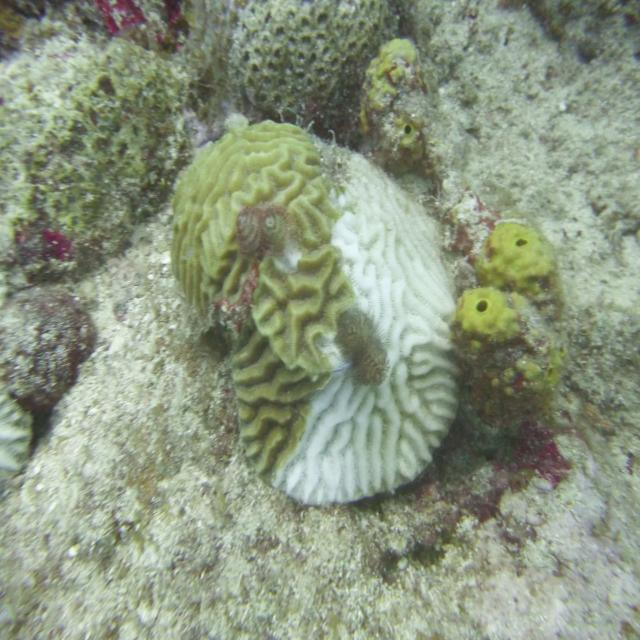Coral: (170, 118, 458, 509), (225, 0, 387, 125)
